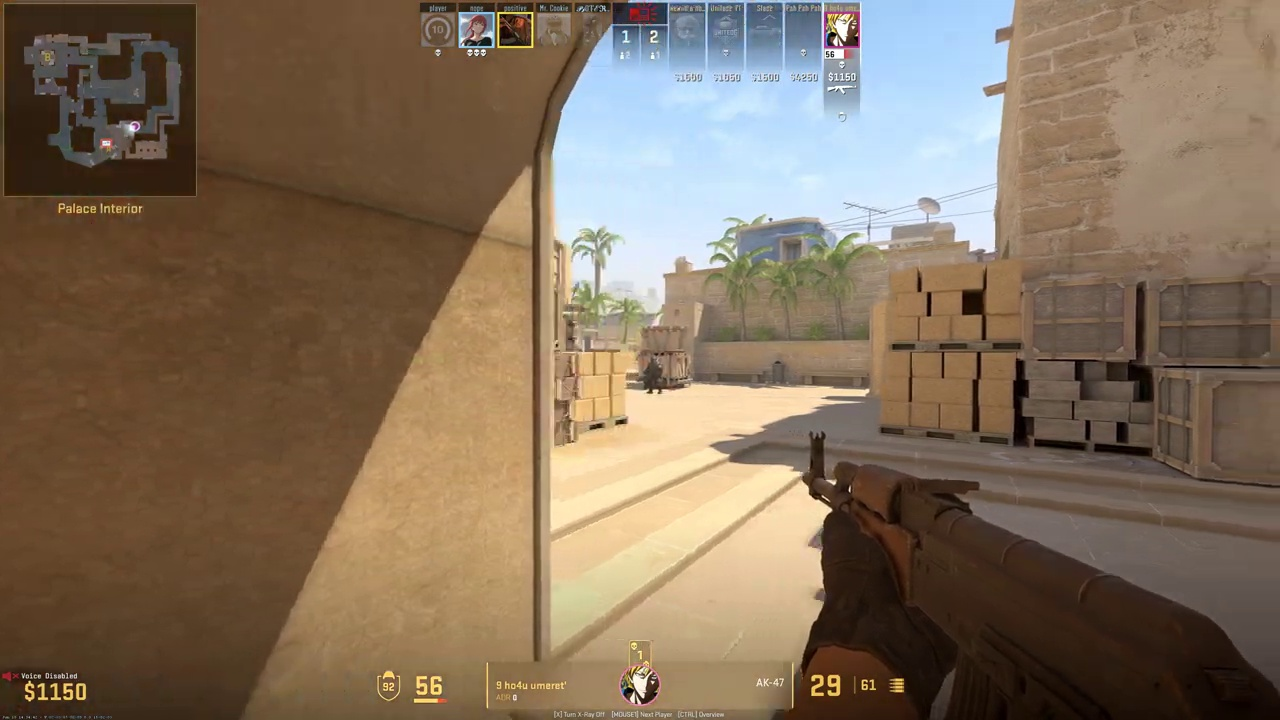CT: (644, 355, 664, 394)
